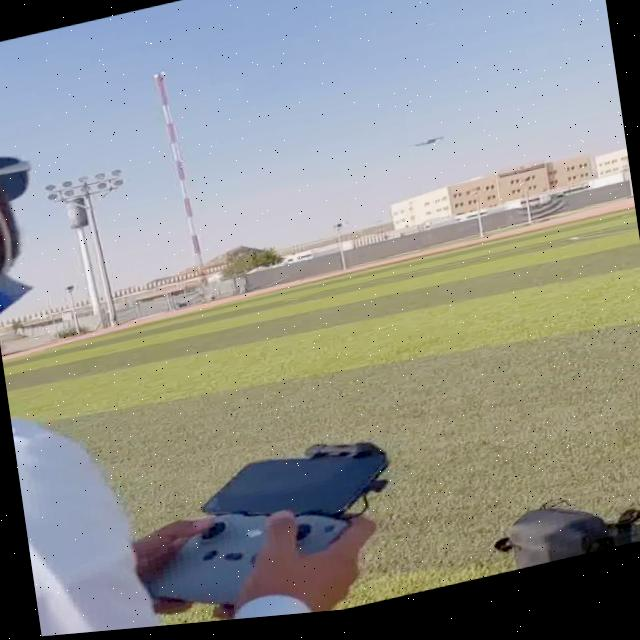drone: (409, 134, 456, 159)
